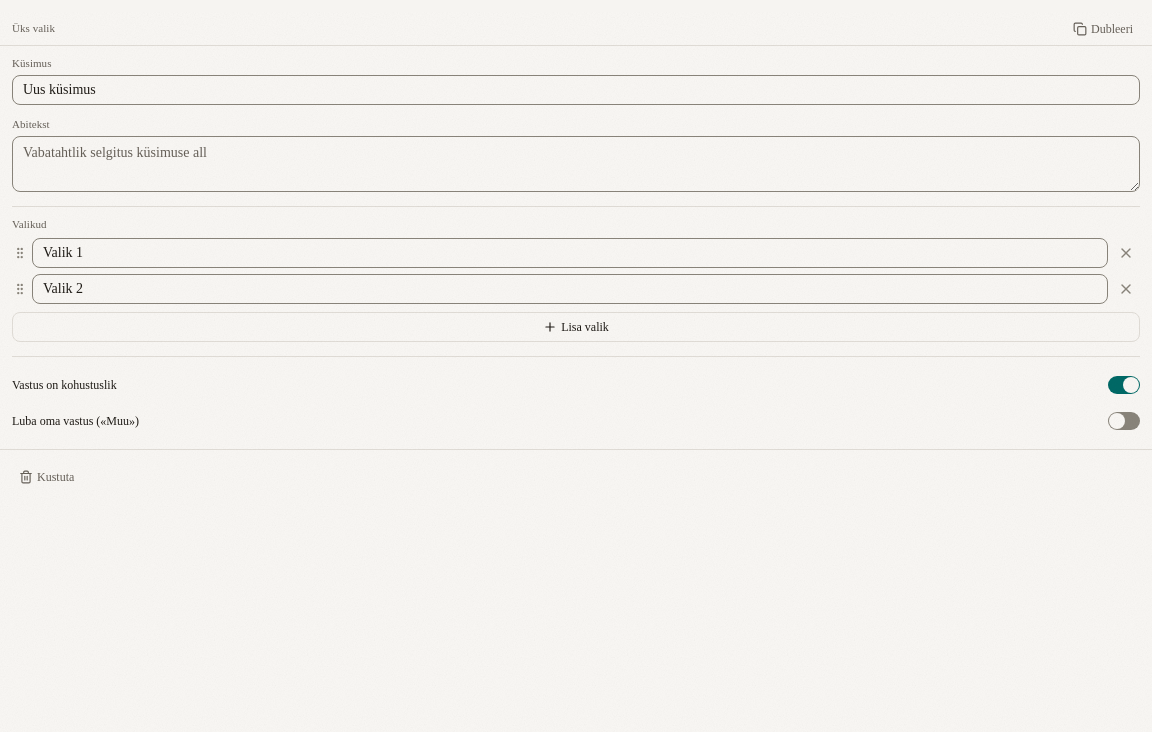
Test case: the words the panel seeds › still uses the survey's own language when nothing is being translated
Click the switch named "Luba oma vastus («Muu»)" in the row of "Luba oma vastus («Muu»)" at (1124, 421), box [1108,412,1140,430]
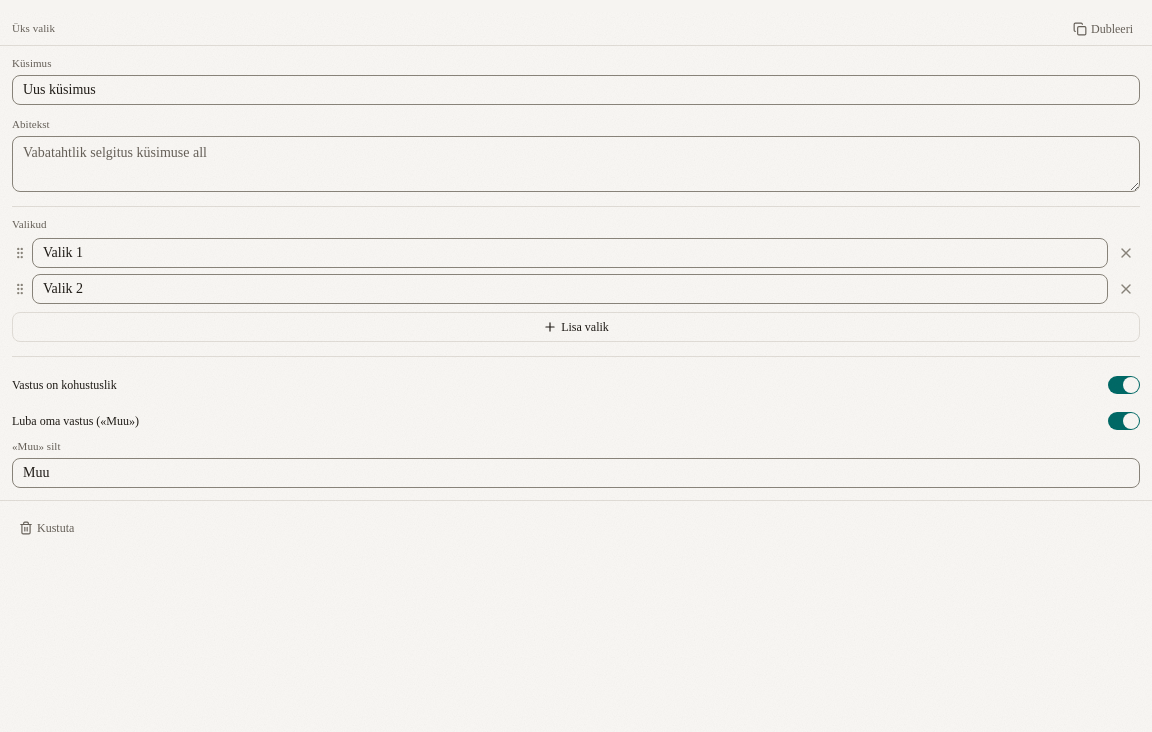
Now the field showing "Muu" is shown, box [12,458,1140,488]
